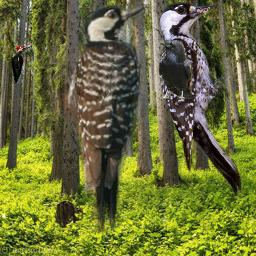Crow: (158, 40, 192, 99)
Woodpecker: (46, 4, 152, 245), (157, 2, 241, 196), (9, 45, 34, 84)
